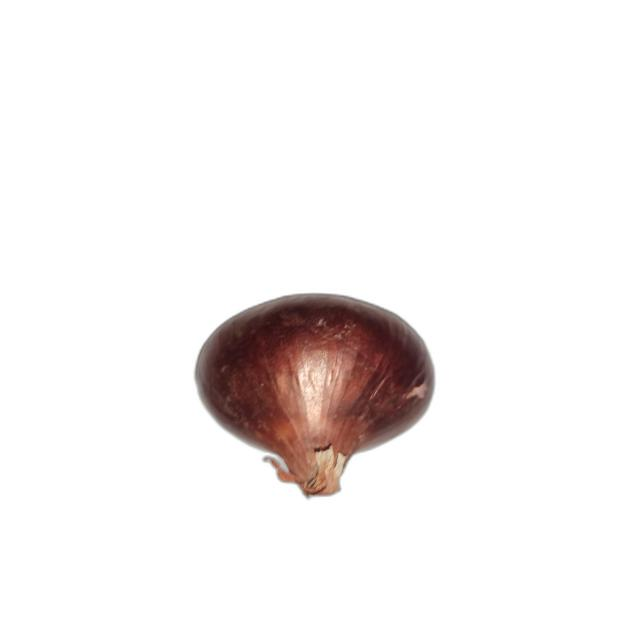onion: (192, 290, 438, 500)
